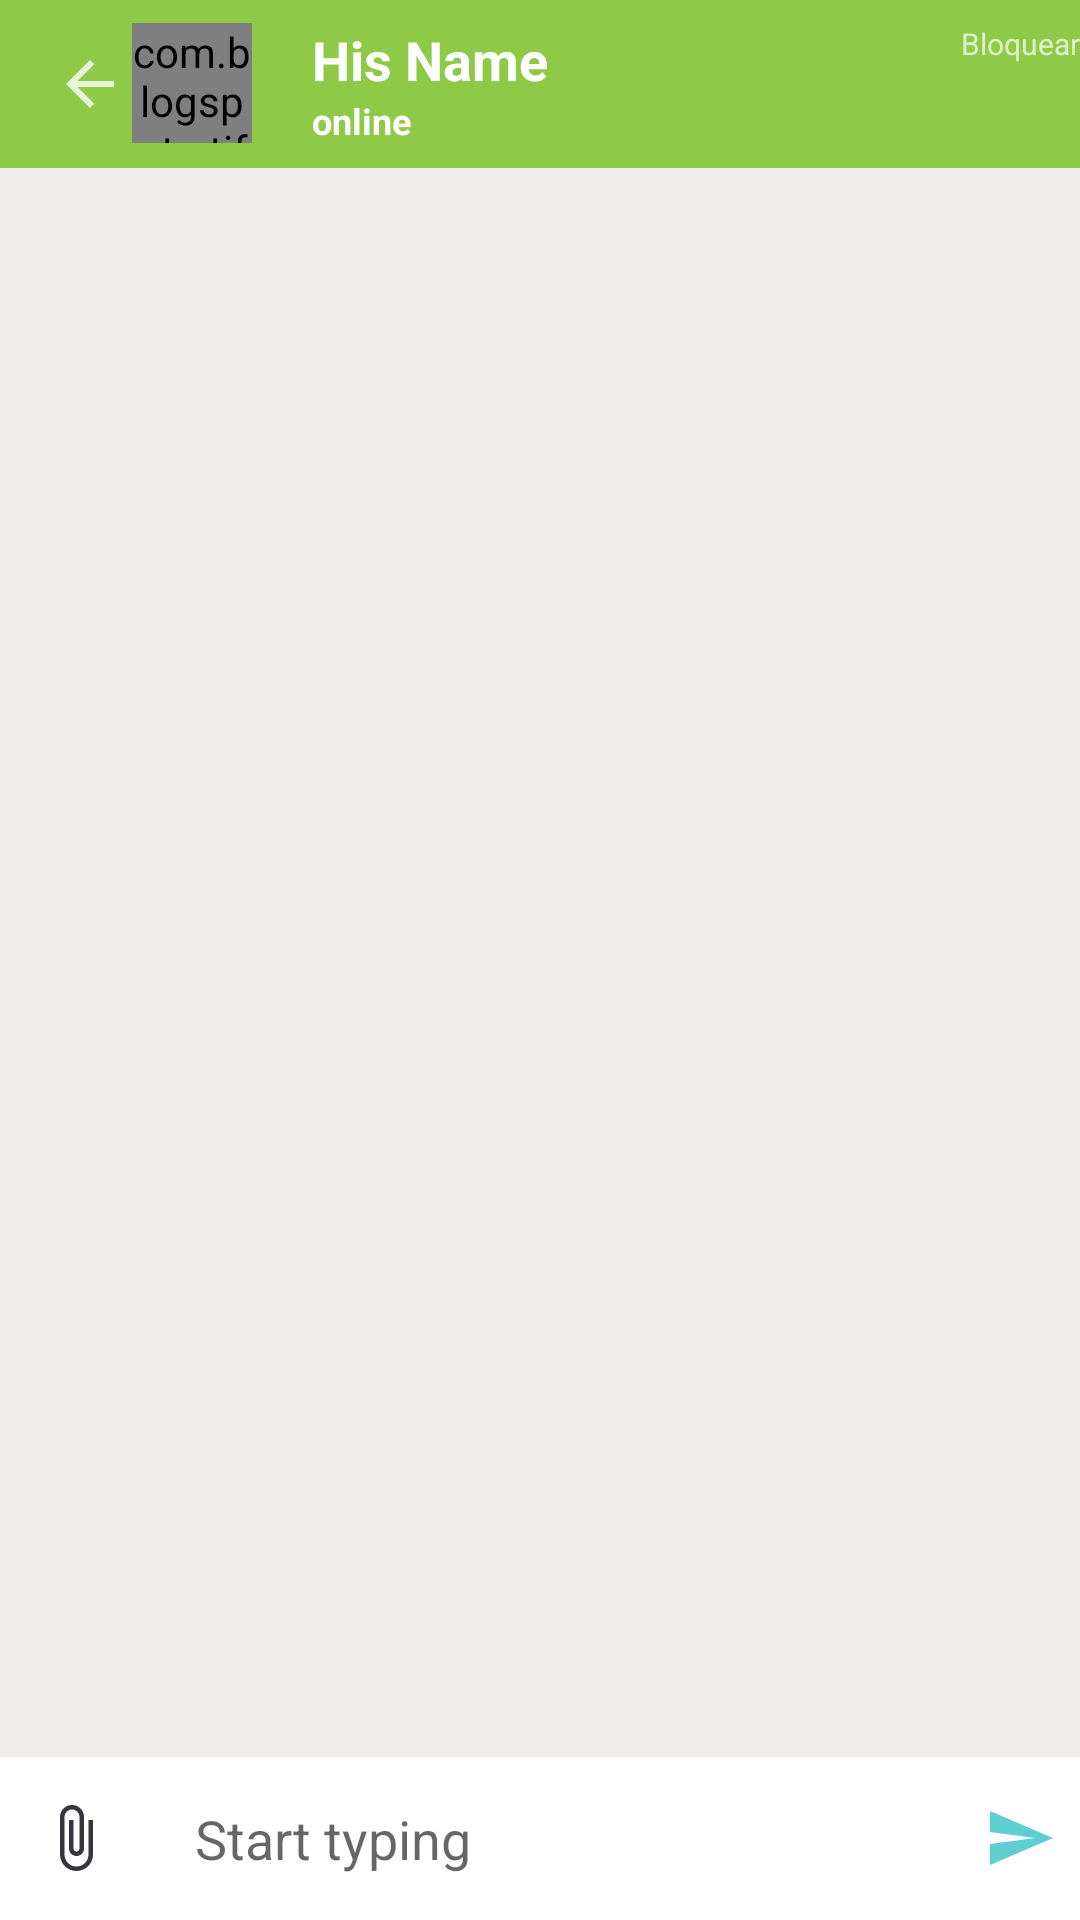

Screen size 1080*1920. Icon name, then its box in pixels as (x1, y1, x2, y2):
atras: (66, 60, 114, 108)
attatch: (60, 1805, 93, 1871)
send: (990, 1811, 1053, 1865)
